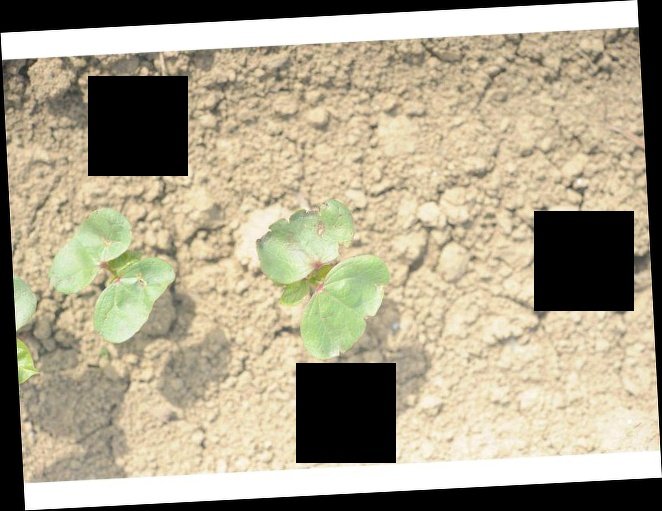cotton: (258, 196, 392, 360), (49, 204, 176, 344)
